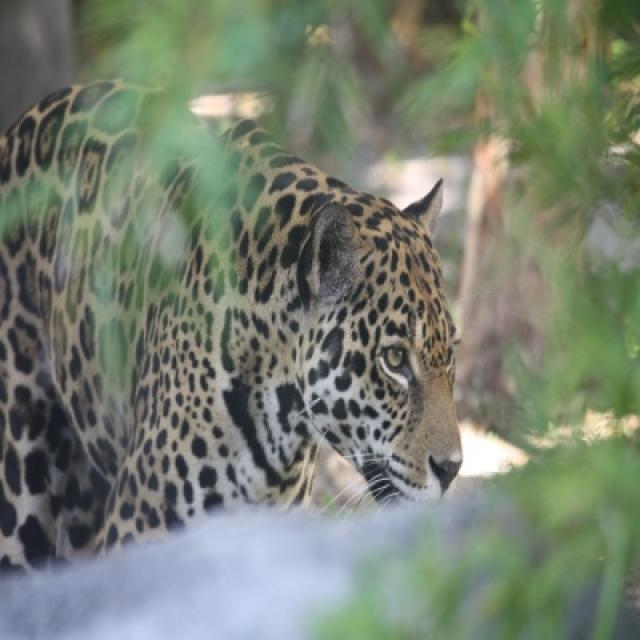Jaguar: (0, 80, 466, 576)
